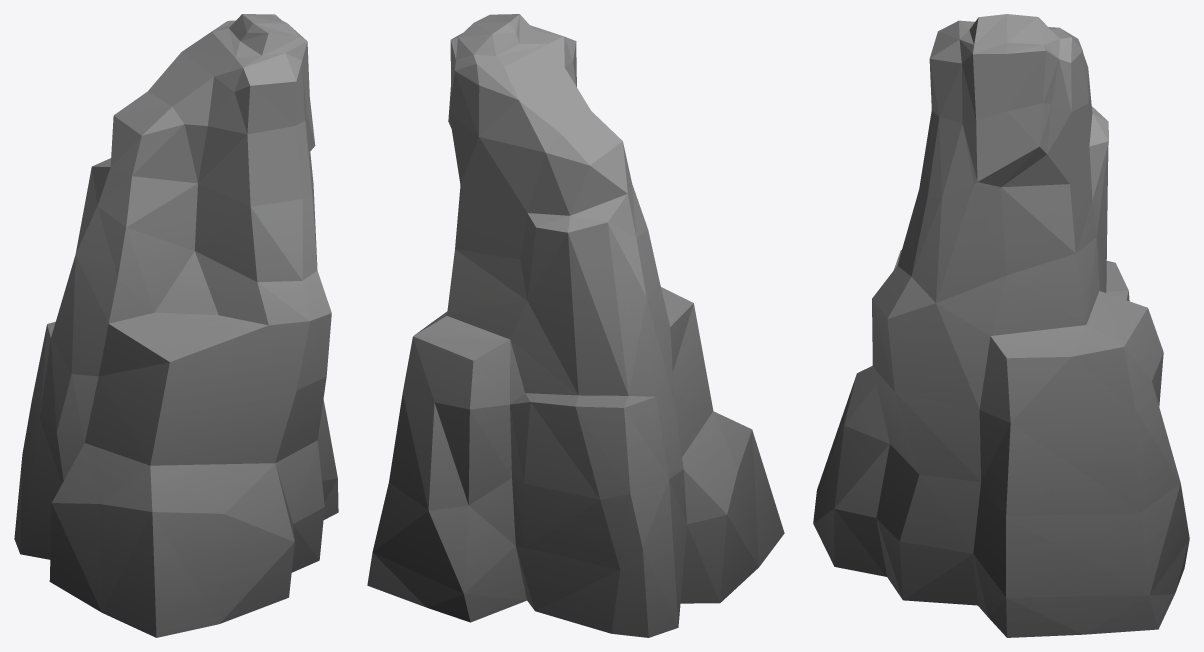
Rendered from Jungle_Cliff_B.fbx.
3 views of the same model, side by side, from view 1: azimuth 30°, elevation 25°; view 2: azimuth 150°, elevation 25°; view 3: azimuth 270°, elevation 25° (orthographic). The views are drawn at different scales.
Visible parts, largest first — view 1: Jungle_Cliff_B; view 2: Jungle_Cliff_B; view 3: Jungle_Cliff_B.
Boxes of the visible parts, left/top/right/bottom form: Jungle_Cliff_B: left=14, top=14, right=338, bottom=637; Jungle_Cliff_B: left=367, top=14, right=784, bottom=637; Jungle_Cliff_B: left=813, top=14, right=1189, bottom=637.
Bounding box in the file's own units: 19.24 × 32.26 × 19.08.
1 material, 1 textured.
